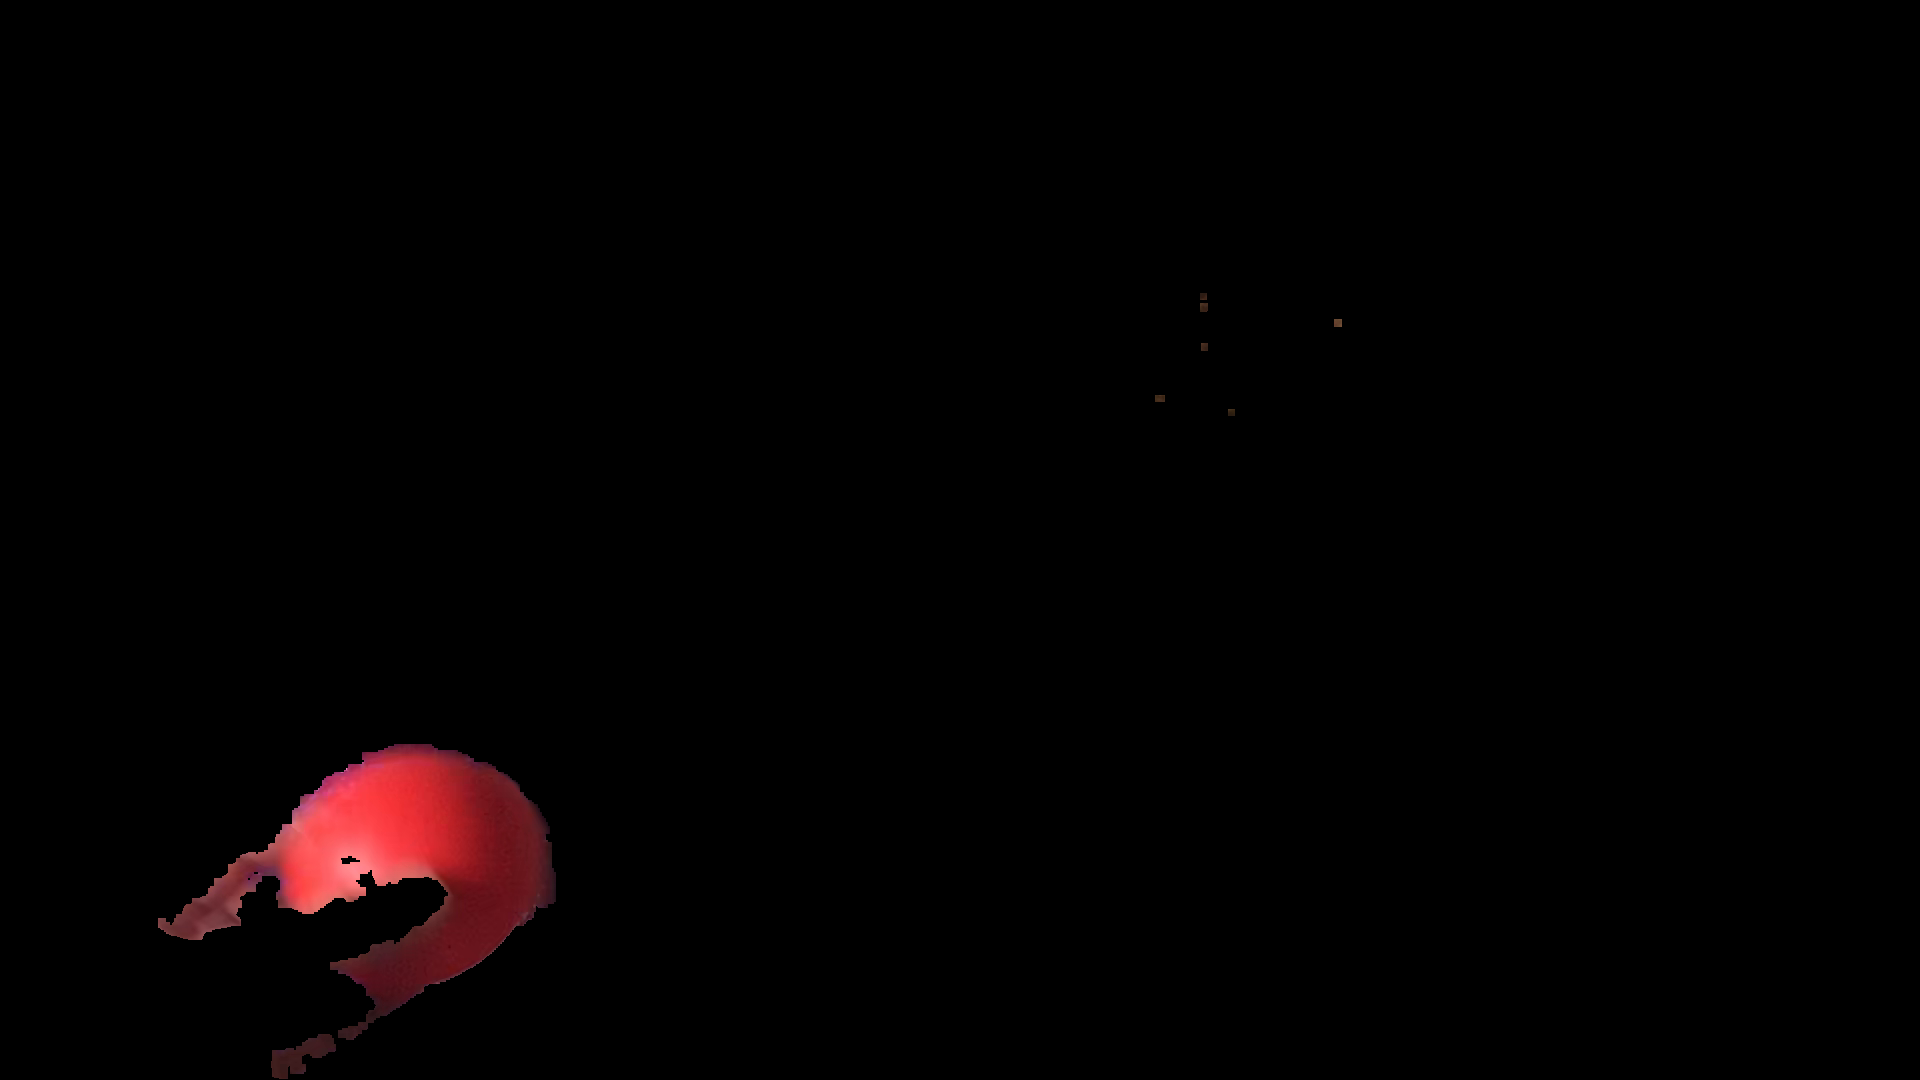Ball: (285, 750, 542, 992)
